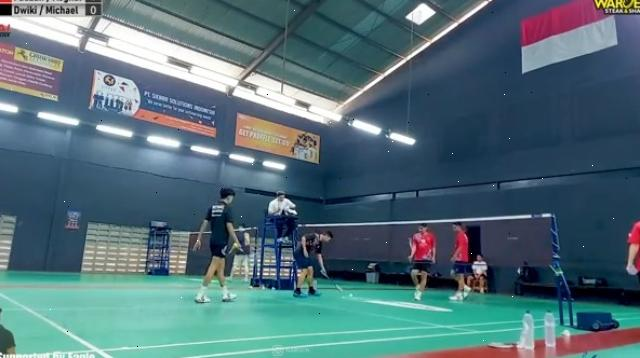Shuttlecock: (348, 292, 356, 302)
